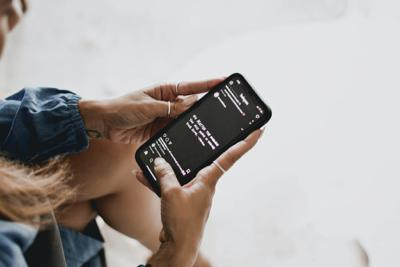cell-phone: (134, 68, 273, 205)
